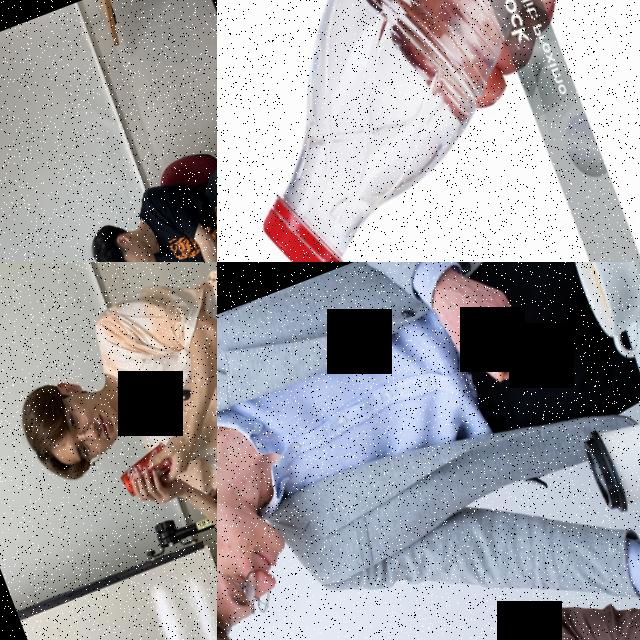bottle: (217, 0, 640, 262)
can: (113, 439, 180, 498)
cup: (578, 402, 640, 517)
